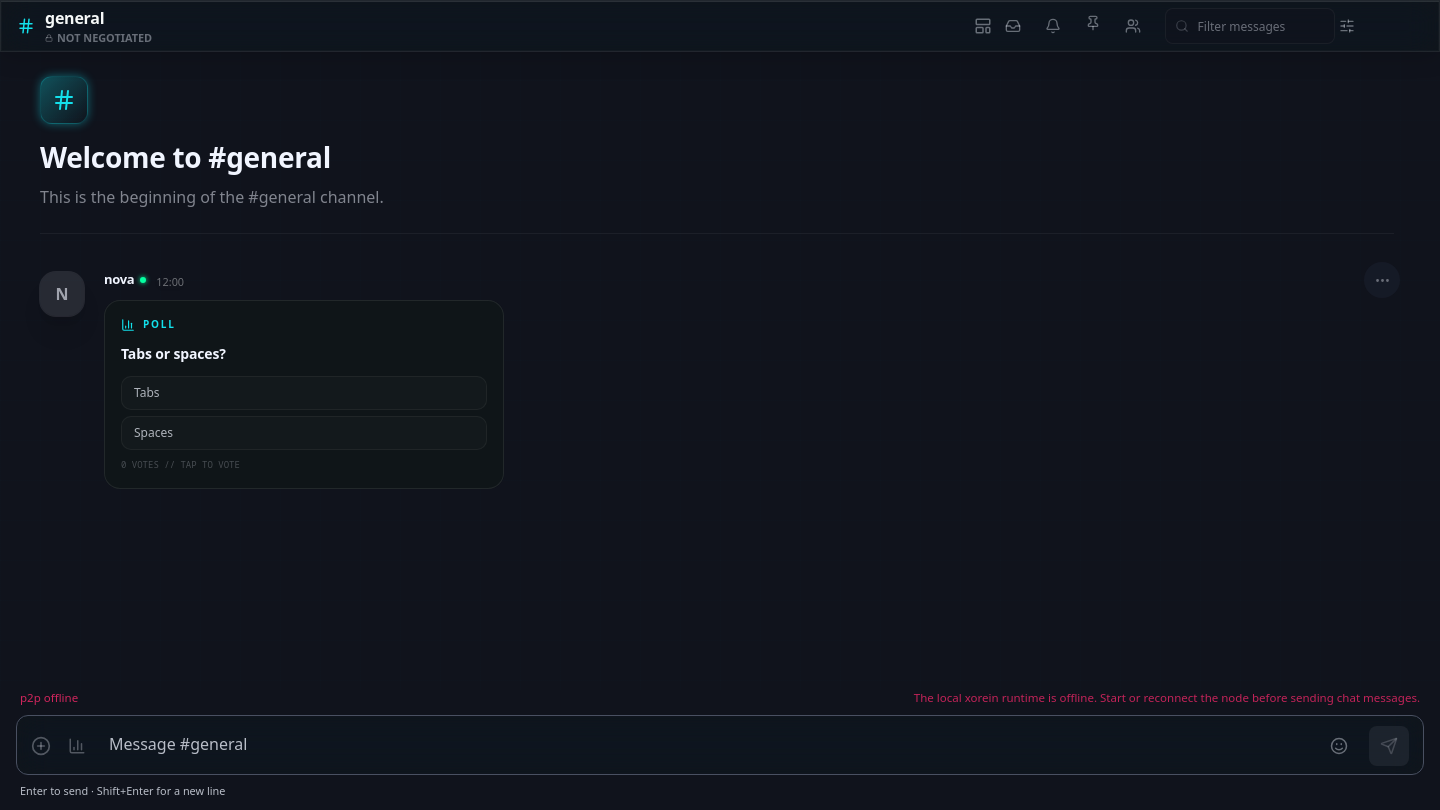
Test: ChatArea polls › casts a vote through the mutation facade when an option is clicked
This screenshot has width=1440, height=810.
Click the button "Spaces". click: {"x": 153, "y": 432}
box: [121,416,487,450]
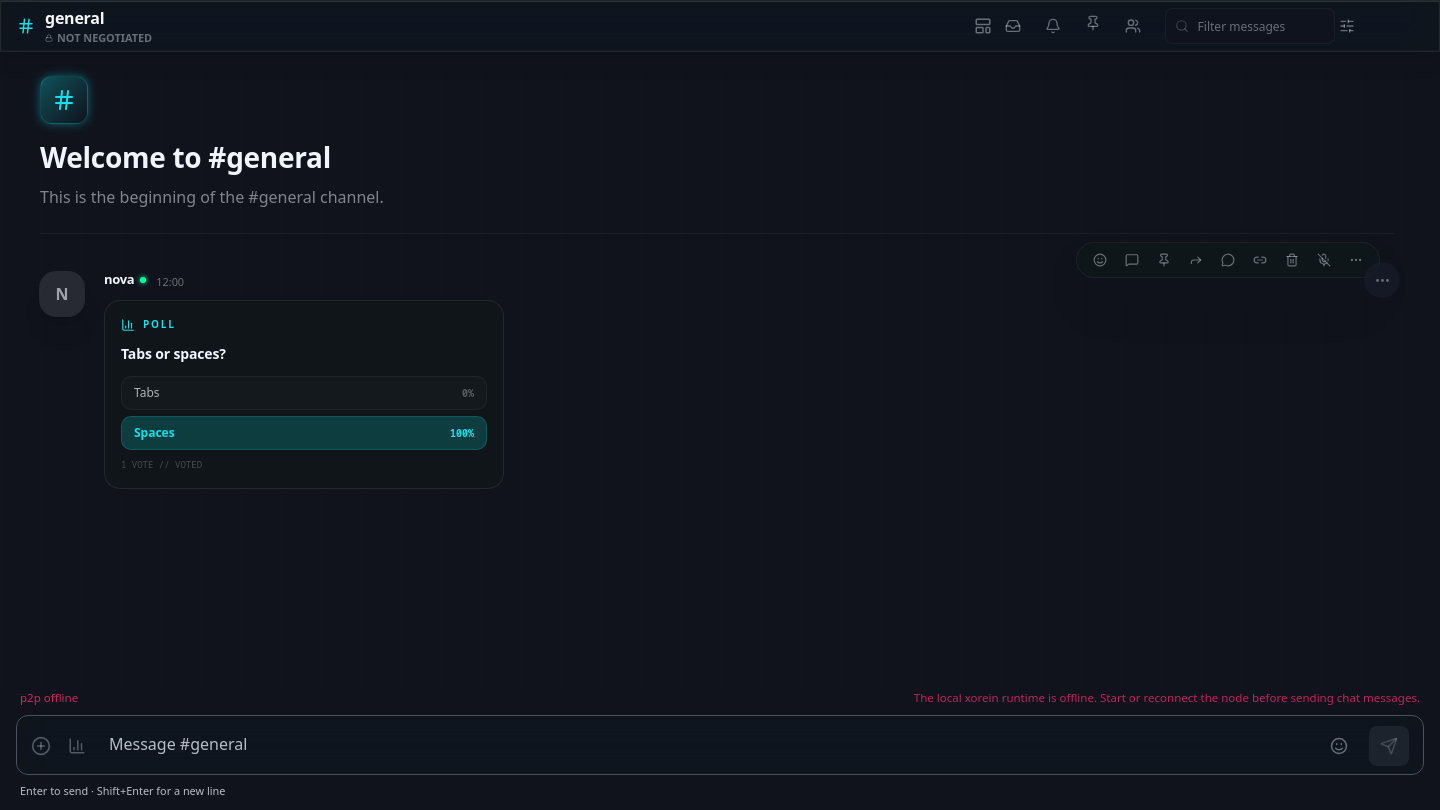
Now the text "1 VOTE // VOTED" is shown, box [121,458,202,471]
